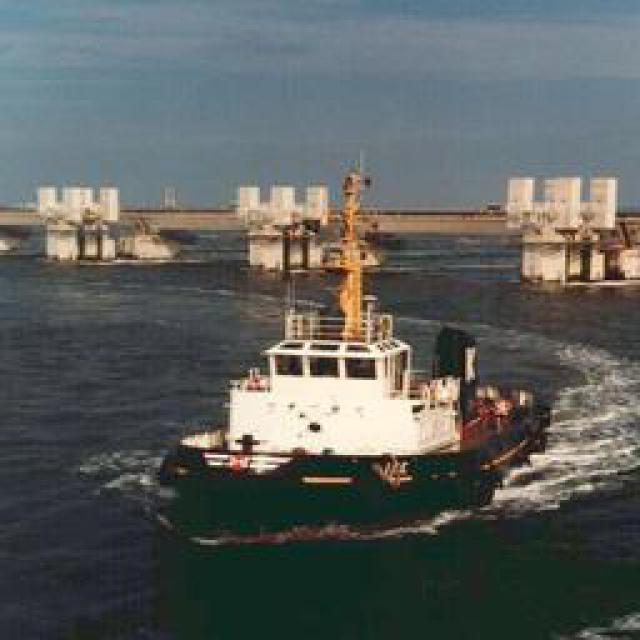Ship: (168, 178, 543, 526)
